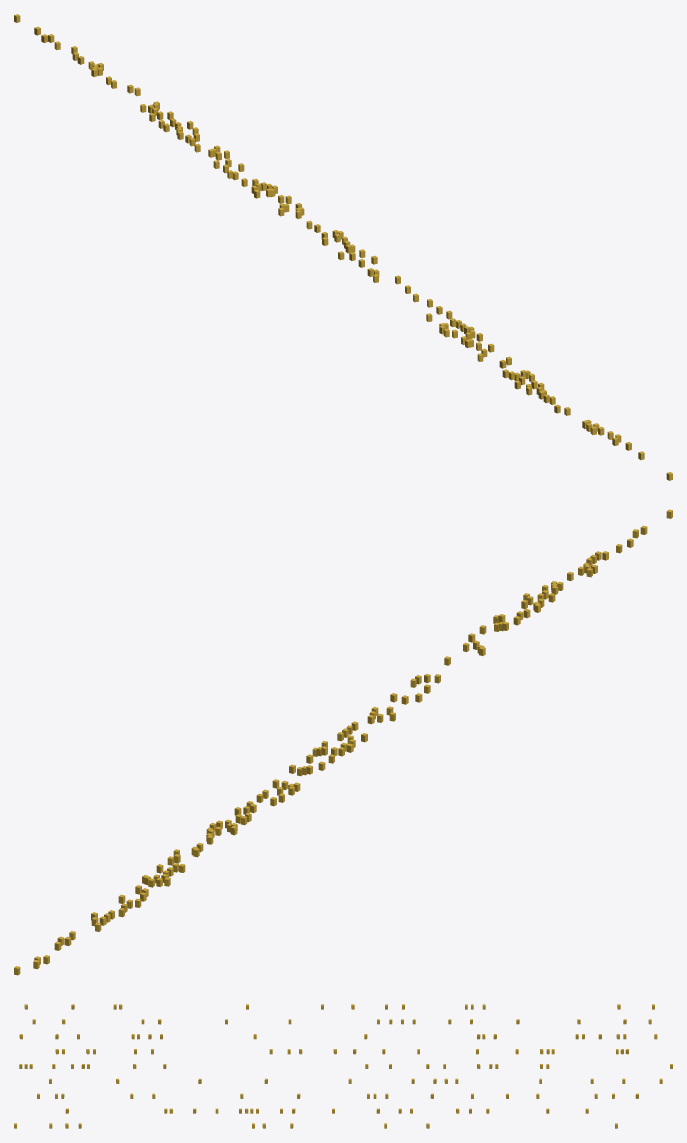
File: CrowdE_CrowdYellow.fbx
3 renders of one model, top to bottom at view 1: azimuth 30°, elevation 25°; view 2: azimuth 150°, elevation 25°; view 3: azimuth 270°, elevation 25°, orthographic. The views are drawn at different scales.
Visible parts, largest first — view 1: FanE0.001; view 2: FanE0.001; view 3: FanE0.001.
Boxes of the visible parts, x1,y1,x2,y2 form: FanE0.001: [14, 14, 672, 480]; FanE0.001: [14, 509, 672, 975]; FanE0.001: [14, 1004, 672, 1128].
Size of the model in its own units: 4126 by 3370 by 25402.
